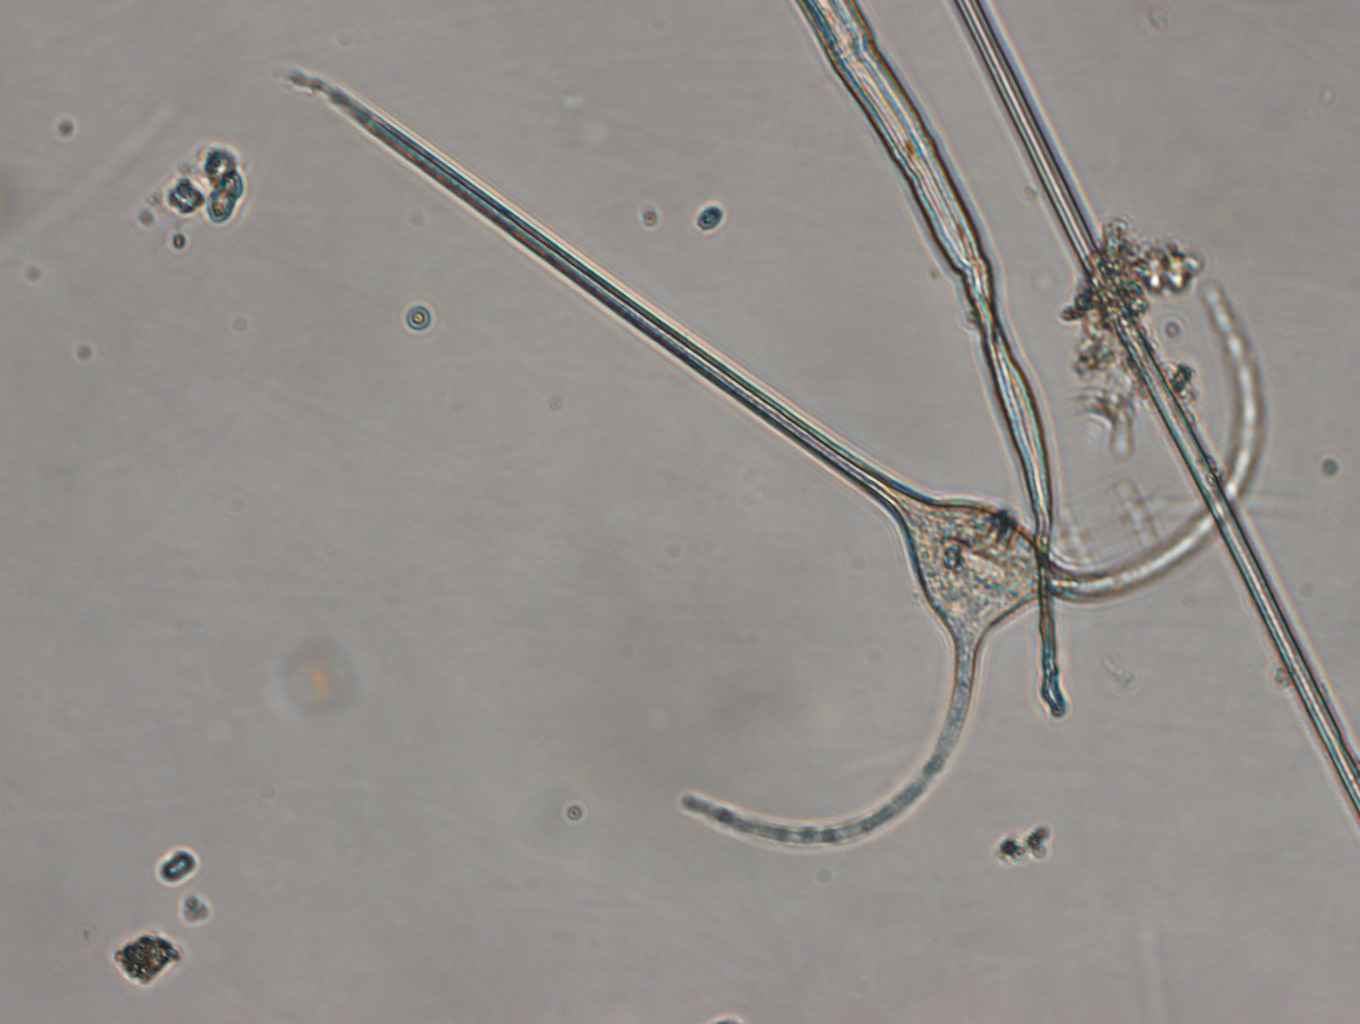ceratium trichoceros: (291, 61, 1271, 861)
